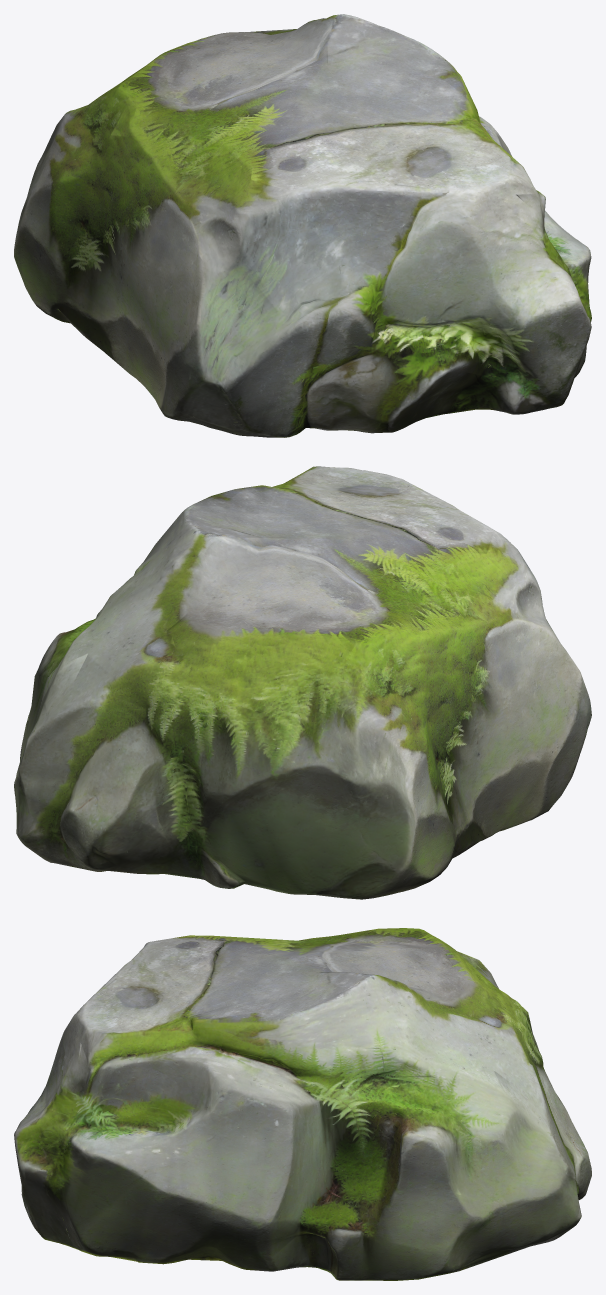
The model's file is mossy_green_rock17_LOW_RES.fbx.
The picture shows the model from 3 angles, top to bottom: view 1: azimuth 30°, elevation 25°; view 2: azimuth 150°, elevation 25°; view 3: azimuth 270°, elevation 25°; orthographic projection. The views are drawn at different scales.
Visible parts, largest first — view 1: mossy_green_rock17_LOW_RES; view 2: mossy_green_rock17_LOW_RES; view 3: mossy_green_rock17_LOW_RES.
Boxes of the visible parts, box(x1,y1,x2,y2) form: mossy_green_rock17_LOW_RES: box(14, 14, 591, 437); mossy_green_rock17_LOW_RES: box(14, 466, 591, 899); mossy_green_rock17_LOW_RES: box(14, 928, 591, 1280).
Bounding box in the file's own units: 0.7335 × 0.5014 × 0.9998.
